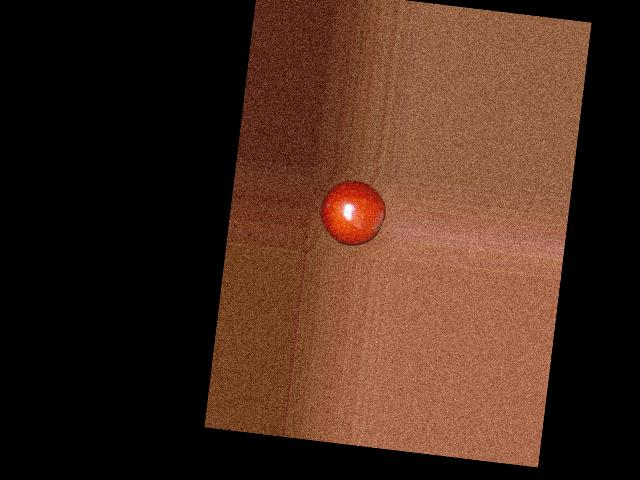tomato: (316, 176, 388, 248)
